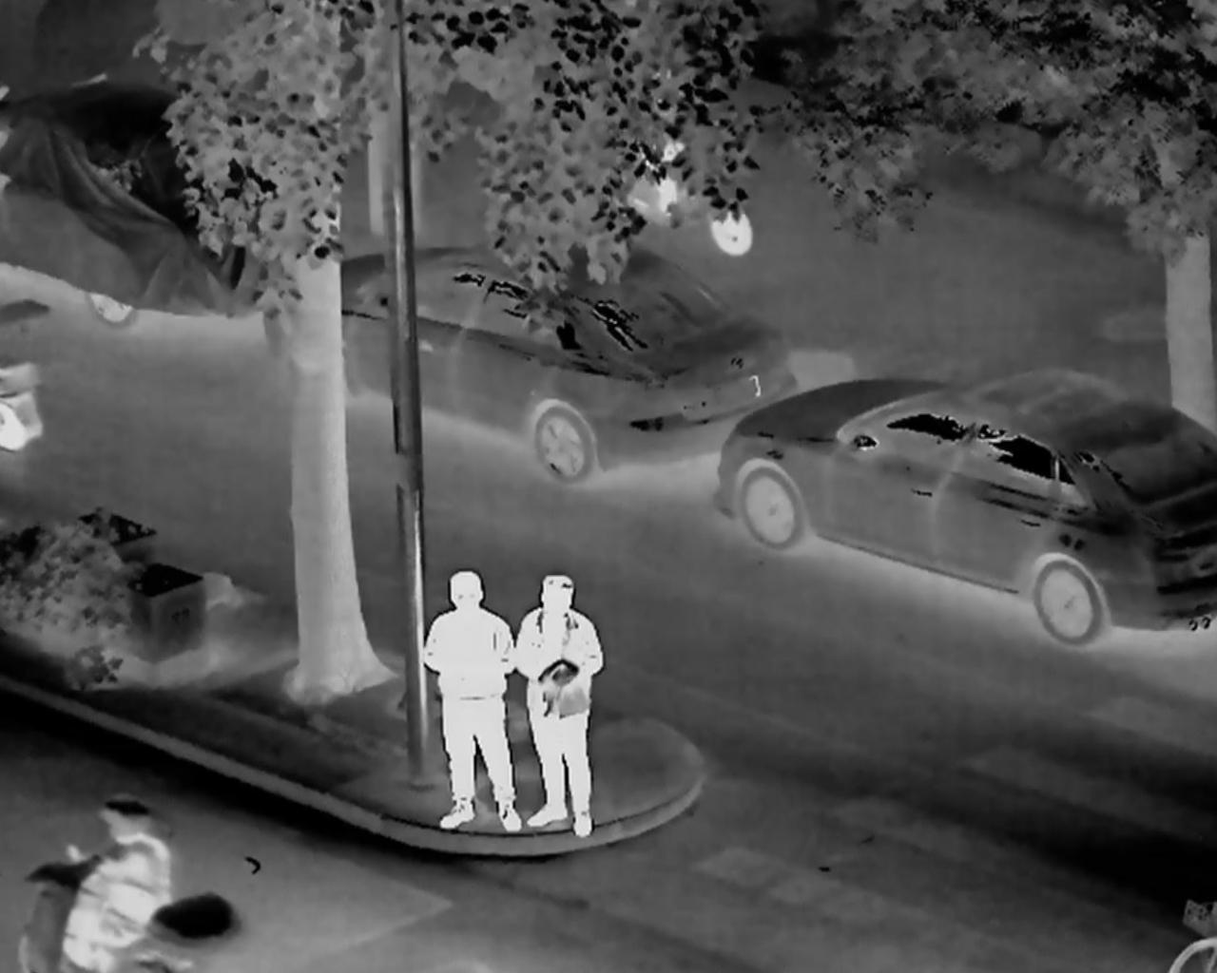person: (424, 559, 531, 842), (507, 571, 607, 835), (66, 784, 180, 973)
